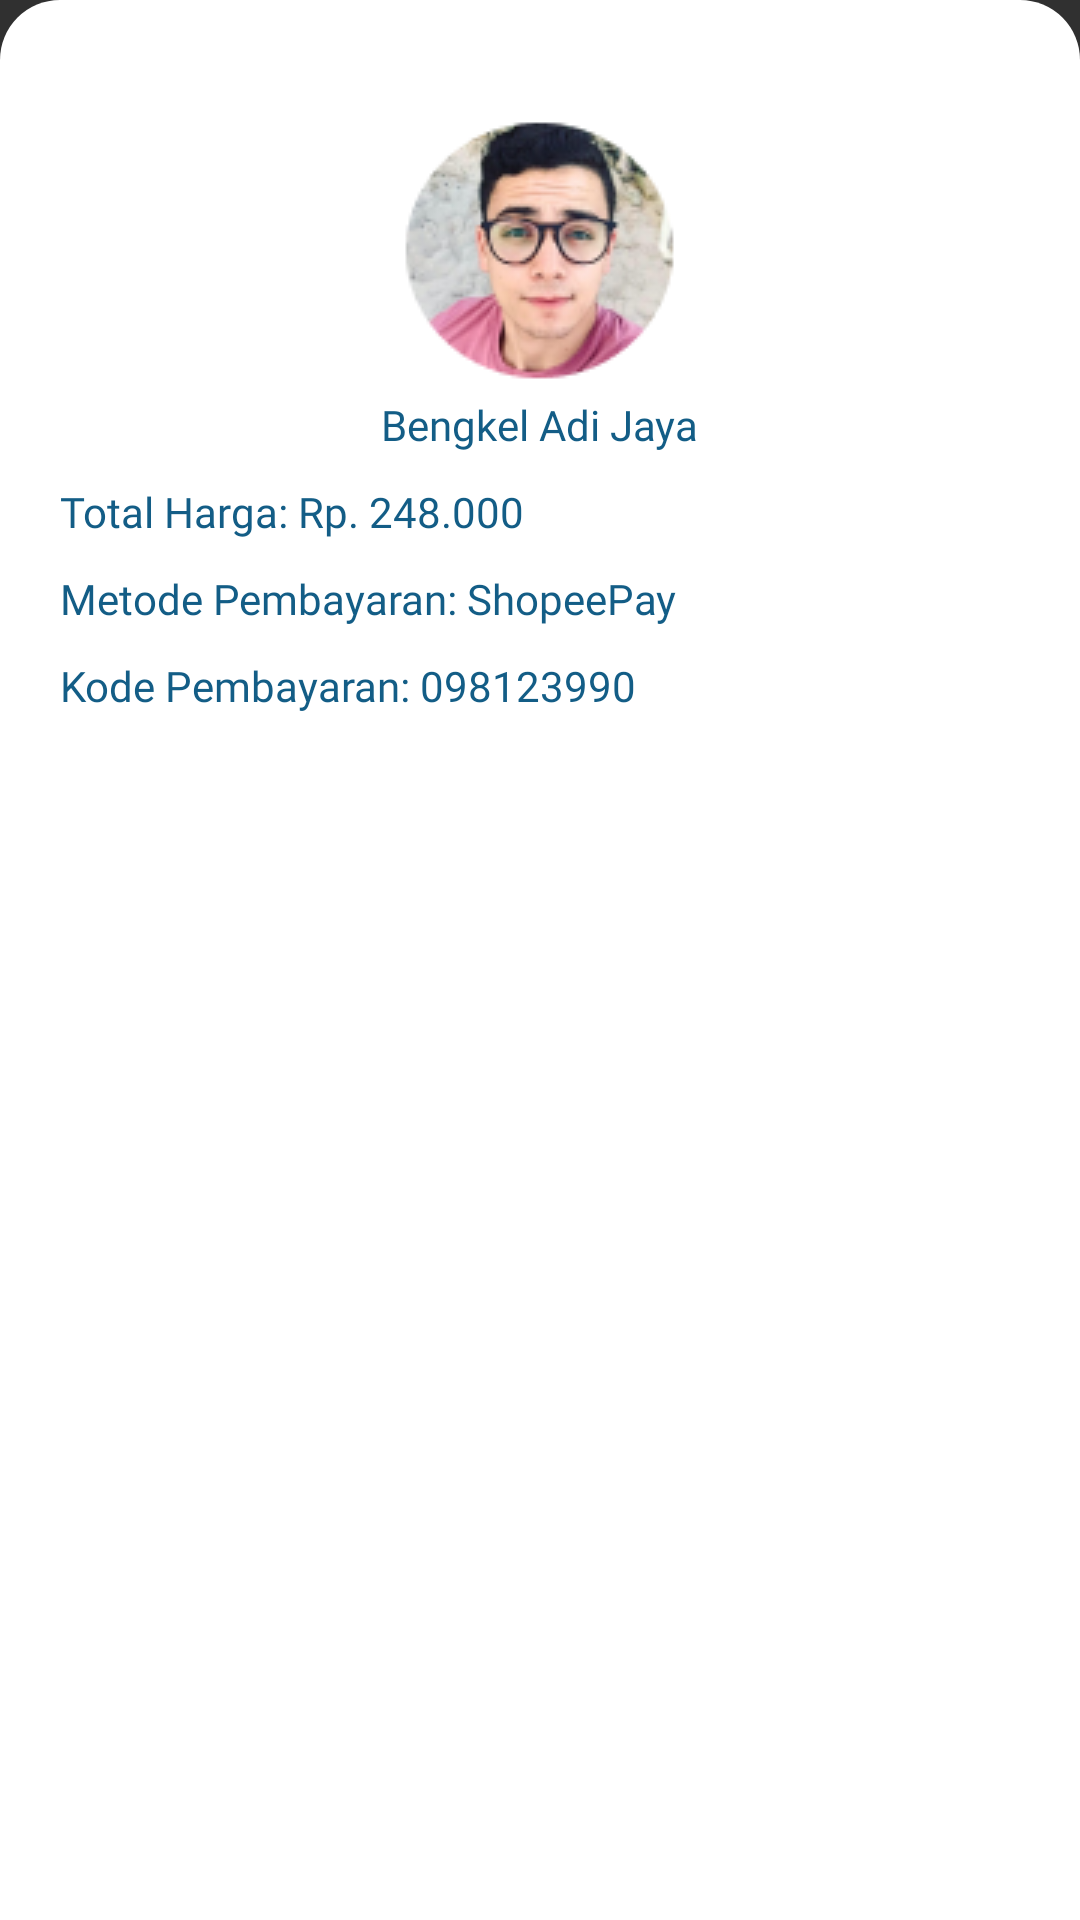

Icon bounding boxes for this 1080×1920 phone screenshot, format box(x1, y1, x2, y2):
foto bengkel: box(406, 122, 674, 379)
